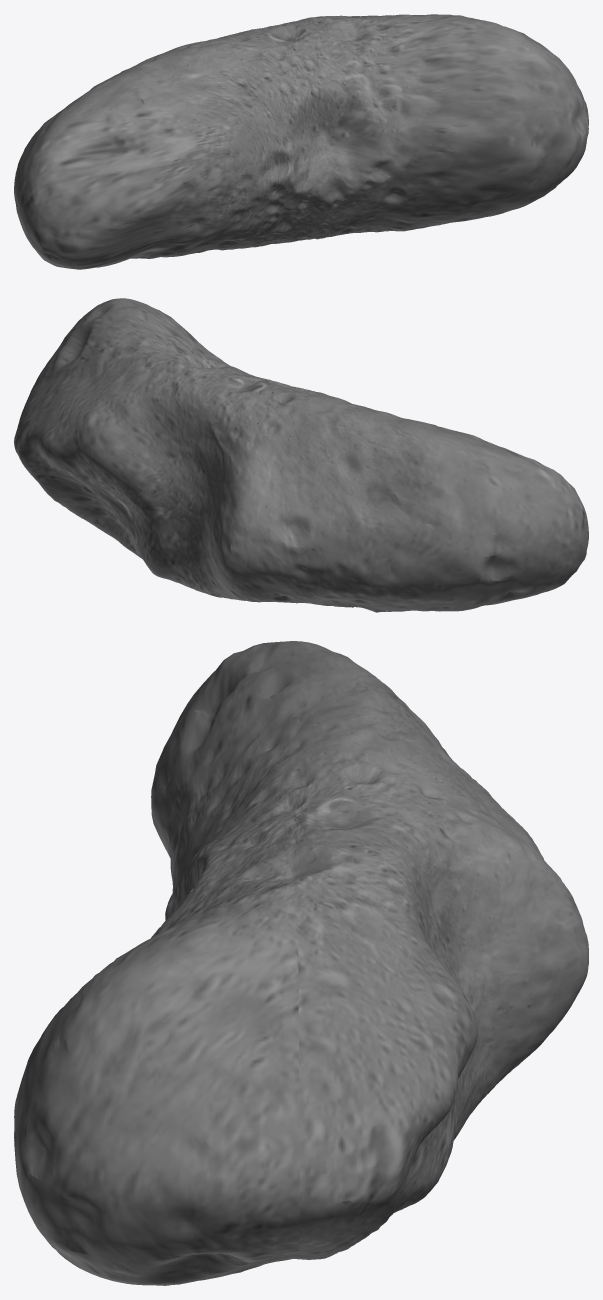
Rendered from eros.glb.
3 views of the same model, one above another, from view 1: azimuth 30°, elevation 25°; view 2: azimuth 150°, elevation 25°; view 3: azimuth 270°, elevation 25° (orthographic). The views are drawn at different scales.
Visible parts, largest first — view 1: Eros_TrueColor.wrl.cleaner.materialmerger.gles; view 2: Eros_TrueColor.wrl.cleaner.materialmerger.gles; view 3: Eros_TrueColor.wrl.cleaner.materialmerger.gles.
Boxes of the visible parts, x1,y1,x2,y2 form: Eros_TrueColor.wrl.cleaner.materialmerger.gles: [14, 14, 588, 269]; Eros_TrueColor.wrl.cleaner.materialmerger.gles: [14, 298, 588, 612]; Eros_TrueColor.wrl.cleaner.materialmerger.gles: [14, 641, 588, 1285].
Size of the model in its own units: 1691 by 619 by 871.
2 materials, 1 textured.
